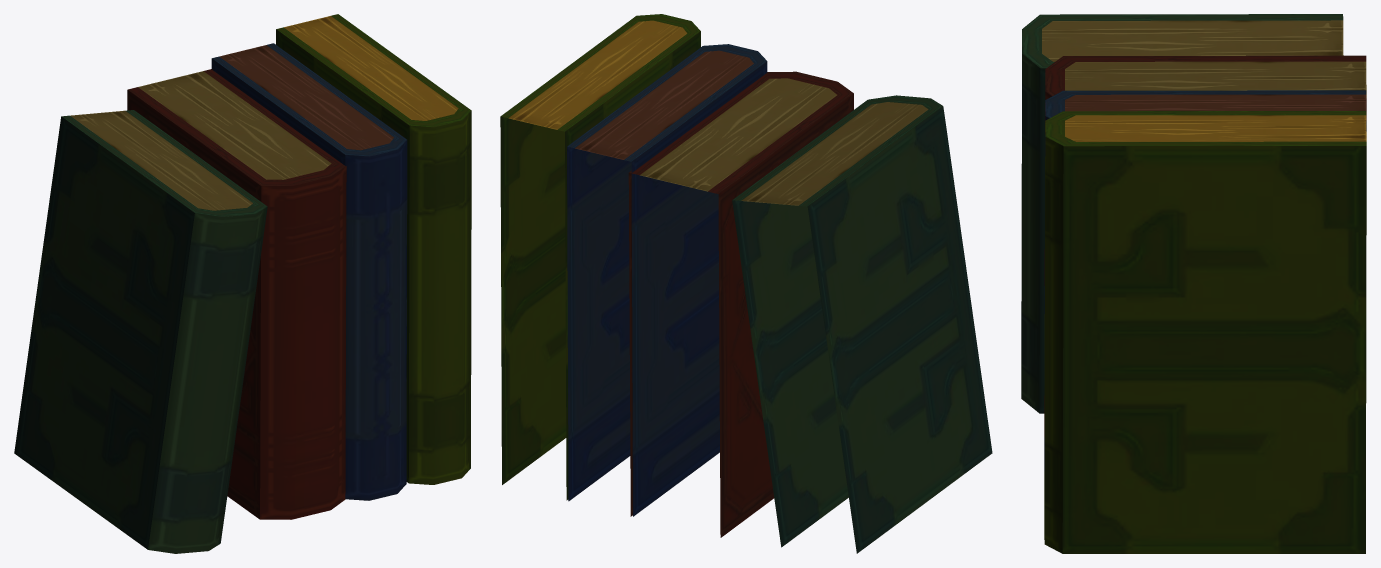
Rendered from BookGroup_Small_1.glb.
3 views of the same model, side by side, from view 1: azimuth 30°, elevation 25°; view 2: azimuth 150°, elevation 25°; view 3: azimuth 270°, elevation 25° (orthographic). The views are drawn at different scales.
Parts seen in each view (by area): view 1: BookGroup_Small_1; view 2: BookGroup_Small_1; view 3: BookGroup_Small_1.
Boxes of the visible parts, box(x1,y1,x2,y2) form: BookGroup_Small_1: box(14, 14, 471, 553); BookGroup_Small_1: box(500, 14, 992, 553); BookGroup_Small_1: box(1021, 14, 1366, 553).
Bounding box in the file's own units: 0.2893 × 0.2983 × 0.2256.
Materials: 1 (1 with a texture image).
